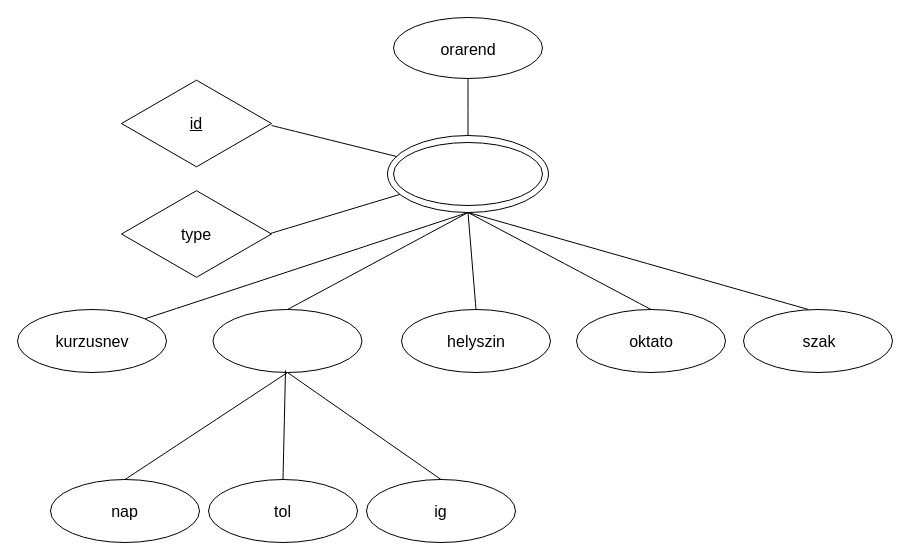
The diagram is 910 pixels wide and 560 high, and some of its shapes have lost their labels. Each missing label, with the centre of its shape:
idopont: pixel 287 340
ora: pixel 467 174
